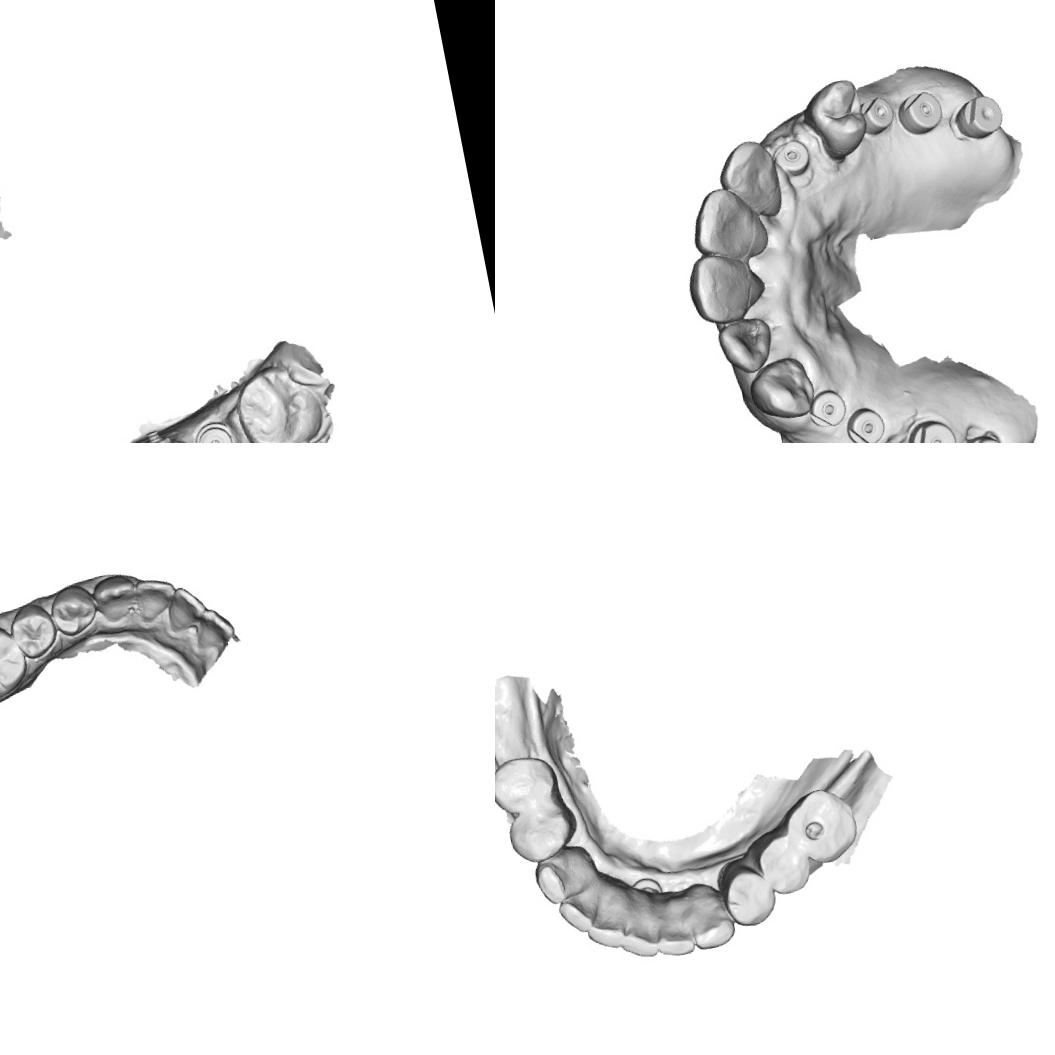canine: (741, 351, 820, 427), (529, 846, 592, 910), (86, 571, 140, 626), (686, 898, 739, 952)
implant: (946, 90, 1006, 144), (893, 88, 947, 138), (804, 384, 850, 432), (842, 403, 888, 443), (771, 136, 812, 178), (903, 414, 961, 443), (860, 92, 898, 136), (191, 417, 240, 443), (958, 429, 1013, 443)
incisor: (681, 244, 770, 329), (713, 134, 787, 226), (684, 179, 770, 258), (712, 312, 778, 378), (580, 900, 636, 954), (549, 887, 602, 940), (130, 572, 181, 624), (652, 910, 702, 962), (617, 912, 666, 964), (188, 602, 238, 652), (162, 580, 210, 632)
molar: (228, 355, 329, 443), (780, 782, 864, 871), (0, 619, 34, 708)
premolar: (796, 75, 873, 168), (504, 798, 580, 866), (749, 827, 816, 899), (495, 750, 561, 819), (718, 864, 778, 928), (5, 597, 61, 662), (45, 579, 102, 640)
